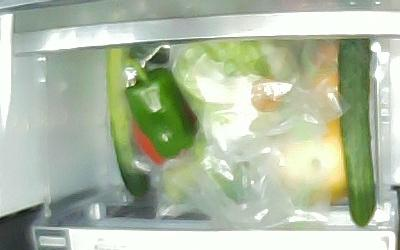broccoli_vinyl: (161, 136, 244, 207)
cucumber: (338, 39, 376, 228), (106, 46, 150, 199)
grapefruit_vinyl: (282, 115, 346, 200)
lettuce_vinyl: (174, 38, 292, 139)
paprika: (124, 58, 199, 158)
